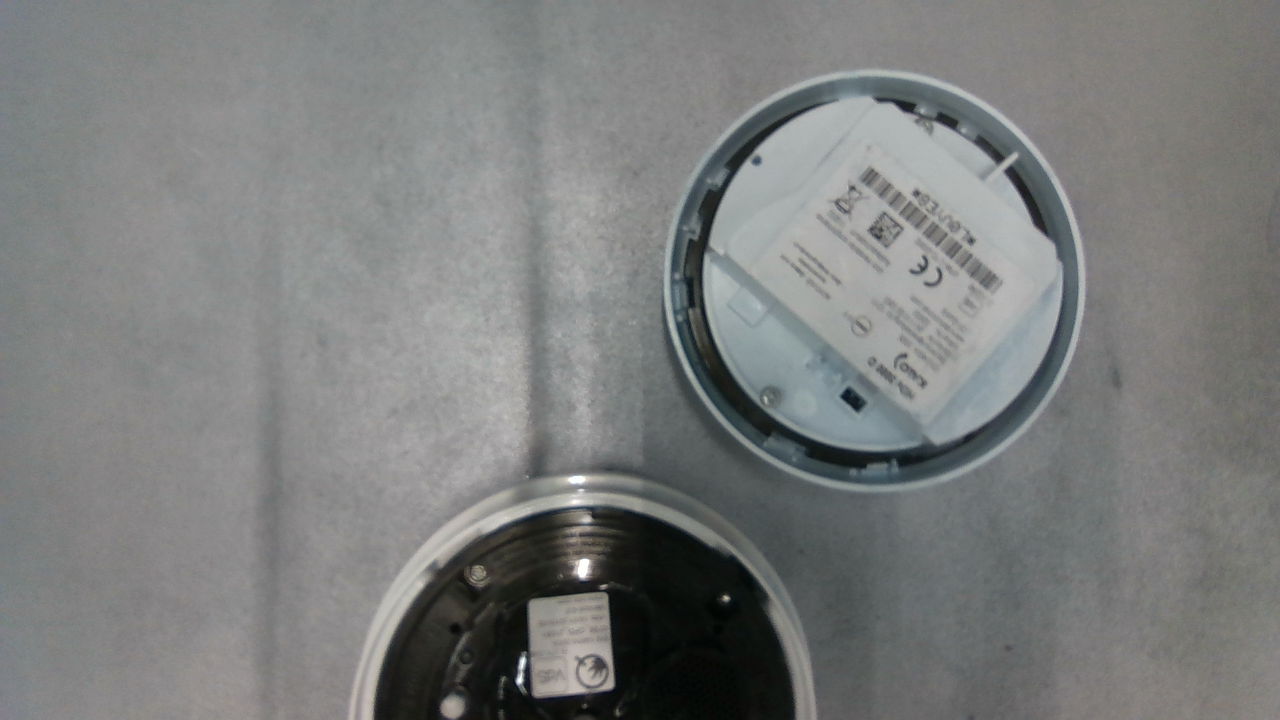HexScrew: (462, 558, 488, 588), (709, 584, 738, 608), (912, 117, 933, 138), (762, 388, 780, 410)
